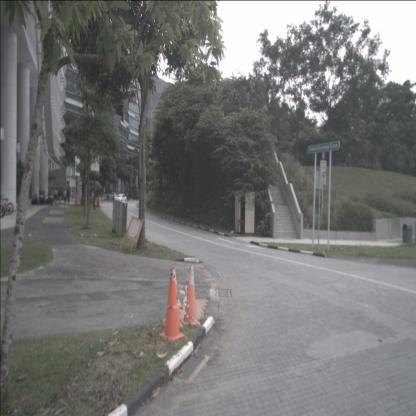barrier: (92, 197, 100, 207), (75, 195, 81, 205), (80, 195, 86, 205), (88, 197, 93, 205)
cone: (159, 266, 185, 340), (180, 264, 200, 328)
